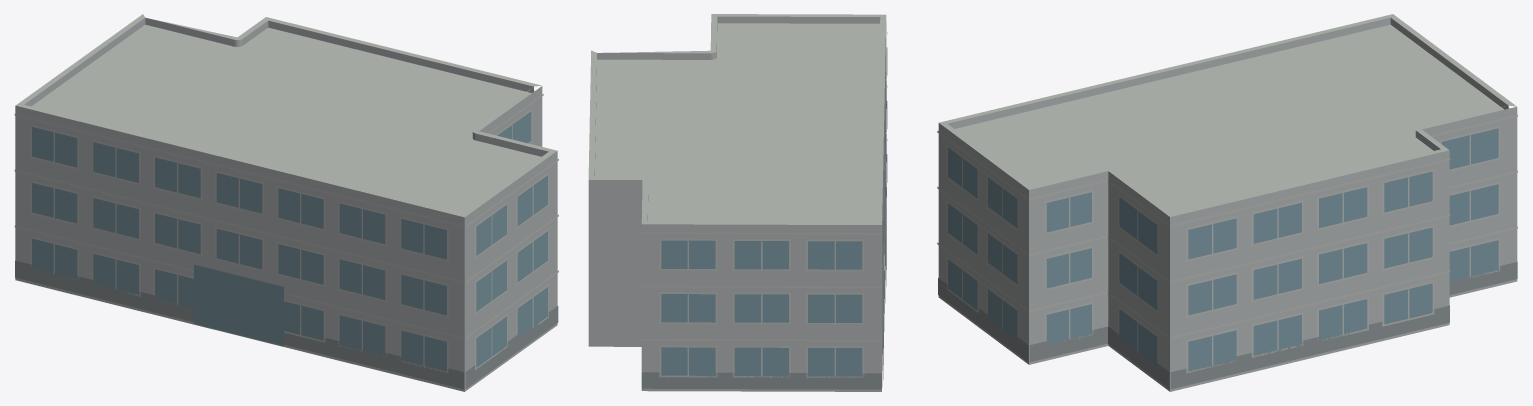
Rendered from public-67fa90ab-b876-4f50-ad1b-50279cb1f534.glb.
3 renders of one model, left to right at view 1: azimuth 30°, elevation 25°; view 2: azimuth 150°, elevation 25°; view 3: azimuth 270°, elevation 25°, orthographic. The views are drawn at different scales.
Visible parts, largest first — view 1: public-67fa90ab-b876-4f50-ad1b-50279cb1f534; view 2: public-67fa90ab-b876-4f50-ad1b-50279cb1f534; view 3: public-67fa90ab-b876-4f50-ad1b-50279cb1f534.
Boxes of the visible parts, bbox=[...] form: public-67fa90ab-b876-4f50-ad1b-50279cb1f534: bbox=[14, 14, 558, 391]; public-67fa90ab-b876-4f50-ad1b-50279cb1f534: bbox=[588, 14, 887, 391]; public-67fa90ab-b876-4f50-ad1b-50279cb1f534: bbox=[937, 14, 1517, 391].
Bounding box in the file's own units: 22.93 × 9.15 × 27.56.
